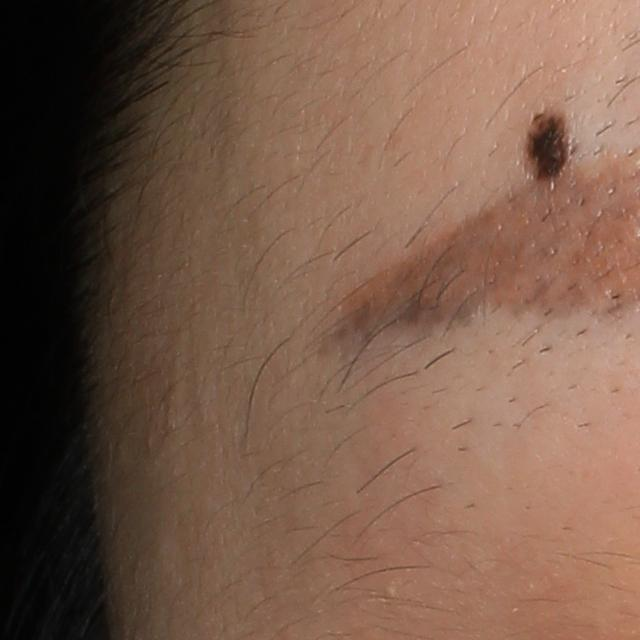nevus: (513, 109, 575, 183)
